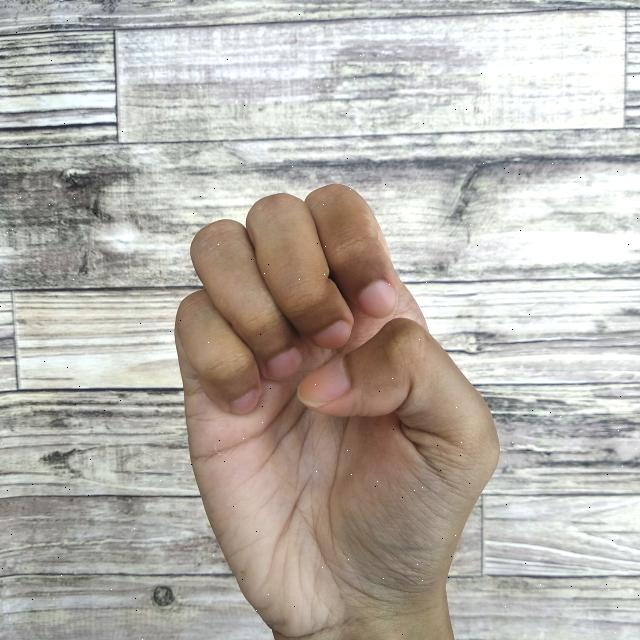E: (173, 181, 509, 640)
